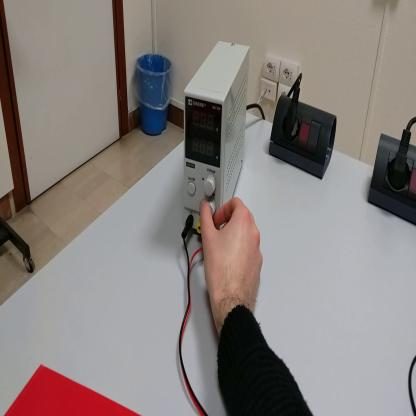hand: (200, 196, 265, 319)
power supply: (184, 40, 251, 235)
register: (6, 363, 144, 415)
socket: (269, 92, 338, 184), (368, 132, 416, 225)
